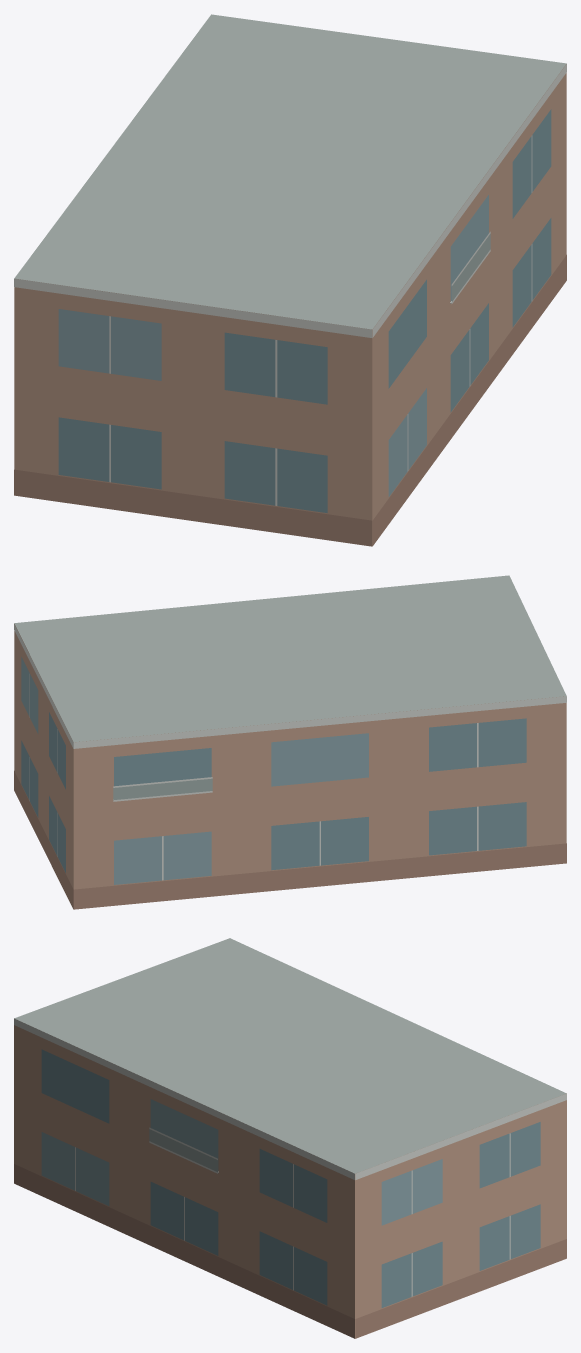
File: survey-upis-32825758.glb
3 views of the same model, one above another, from view 1: azimuth 30°, elevation 25°; view 2: azimuth 150°, elevation 25°; view 3: azimuth 270°, elevation 25° (orthographic). The views are drawn at different scales.
Visible parts, largest first — view 1: survey-upis-32825758.tmp; view 2: survey-upis-32825758.tmp; view 3: survey-upis-32825758.tmp.
Part boxes in pixels (x1,y1,x2,y2): survey-upis-32825758.tmp: (14,14,566,546); survey-upis-32825758.tmp: (14,575,566,909); survey-upis-32825758.tmp: (14,938,566,1338).
Bounding box in the file's own units: 18.68 × 6.1 × 18.52.
